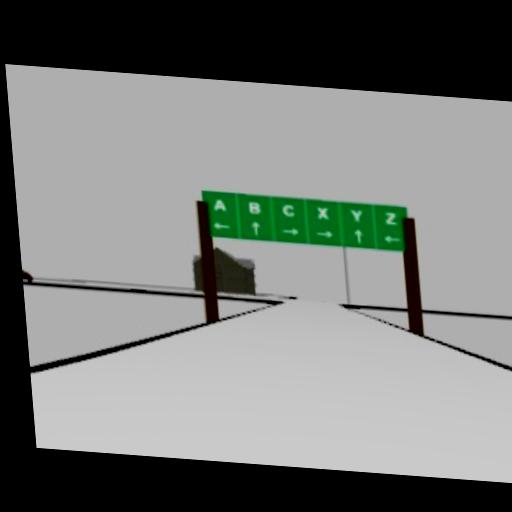A: (213, 198, 226, 213)
B: (246, 199, 261, 214)
C: (282, 204, 295, 217)
Left: (211, 221, 233, 231), (383, 234, 402, 245)
Right: (280, 227, 301, 237), (315, 229, 334, 239)
Straight: (352, 228, 366, 246), (250, 221, 263, 239)
X: (315, 205, 332, 221)
Y: (349, 207, 364, 222)
Z: (382, 211, 399, 226), (382, 211, 397, 224)
